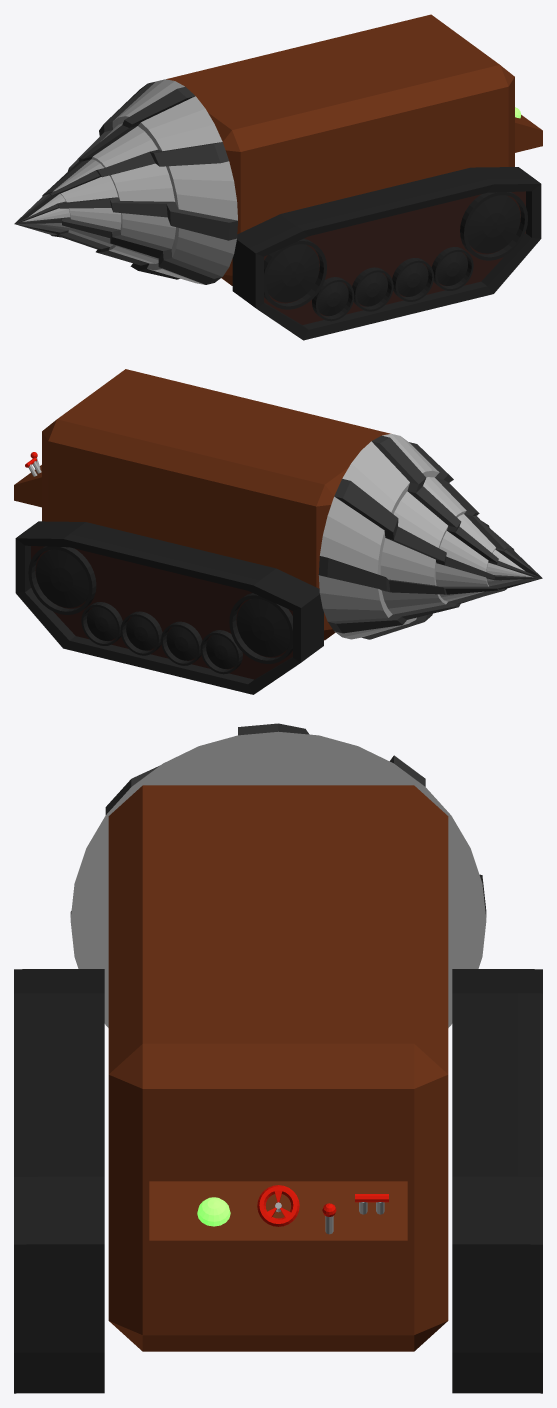
The model's file is Excavator.fbx.
3 views of the same model, one above another, from view 1: azimuth 30°, elevation 25°; view 2: azimuth 150°, elevation 25°; view 3: azimuth 270°, elevation 25° (orthographic). The views are drawn at different scales.
Parts seen in each view (by area): view 1: Excavator, Track, Drill, Controlls; view 2: Excavator, Track.001, Drill, Controlls; view 3: Excavator, Track, Track.001, Controlls, Drill.
Part boxes in pixels (x1,y1,x2,y2): Excavator: [166, 14, 514, 285]; Track: [232, 167, 541, 340]; Drill: [14, 79, 237, 284]; Controlls: [515, 107, 542, 152]; Excavator: [42, 369, 390, 640]; Track.001: [15, 521, 323, 694]; Drill: [318, 434, 542, 639]; Controlls: [14, 452, 41, 507]; Excavator: [108, 785, 448, 1351]; Track: [14, 969, 104, 1393]; Track.001: [452, 969, 542, 1393]; Controlls: [149, 1181, 407, 1271]; Drill: [70, 723, 486, 1027].
Bounding box in the file's own units: 670 × 279 × 312.
